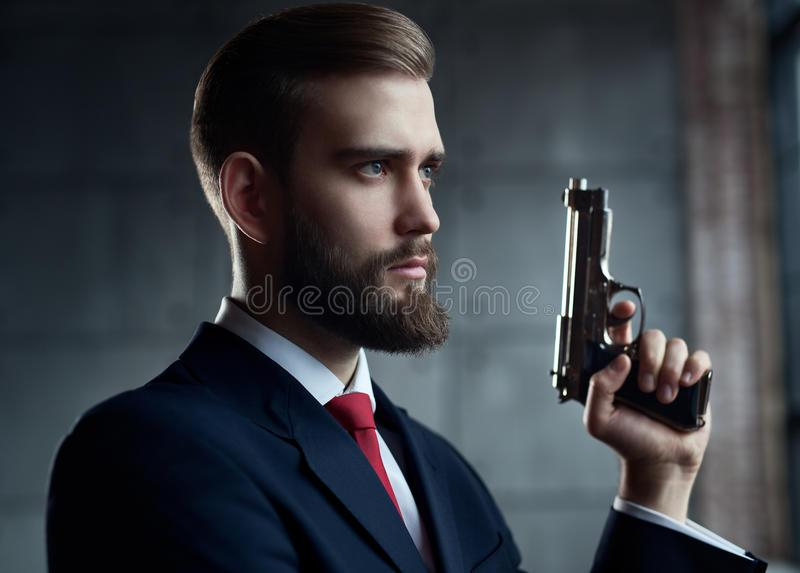criminal: (45, 0, 773, 573)
weapon: (549, 173, 717, 437)
